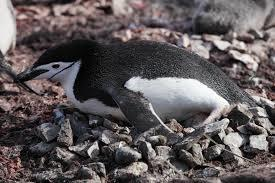chinstrap: (13, 36, 261, 152)
